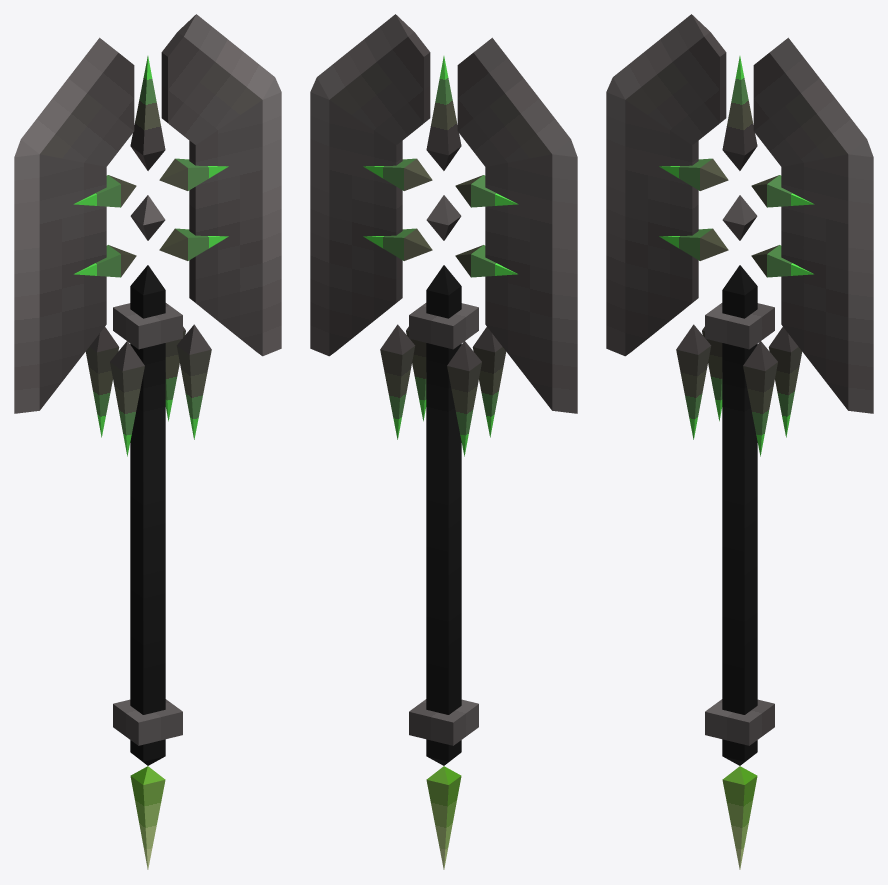
File: weapon_demonlord_axe.obj
3 renders of one model, left to right at view 1: azimuth 30°, elevation 25°; view 2: azimuth 150°, elevation 25°; view 3: azimuth 330°, elevation 25°, orthographic.
Visible parts, largest first — view 1: INFERNAL_AXE_Cube; view 2: INFERNAL_AXE_Cube; view 3: INFERNAL_AXE_Cube.
Part boxes in pixels (x1=…): INFERNAL_AXE_Cube: x1=14, y1=14, x2=281, y2=869; INFERNAL_AXE_Cube: x1=310, y1=14, x2=577, y2=869; INFERNAL_AXE_Cube: x1=606, y1=14, x2=873, y2=869.
Size of the model in its own units: 0.75 by 2.27 by 0.1875.
